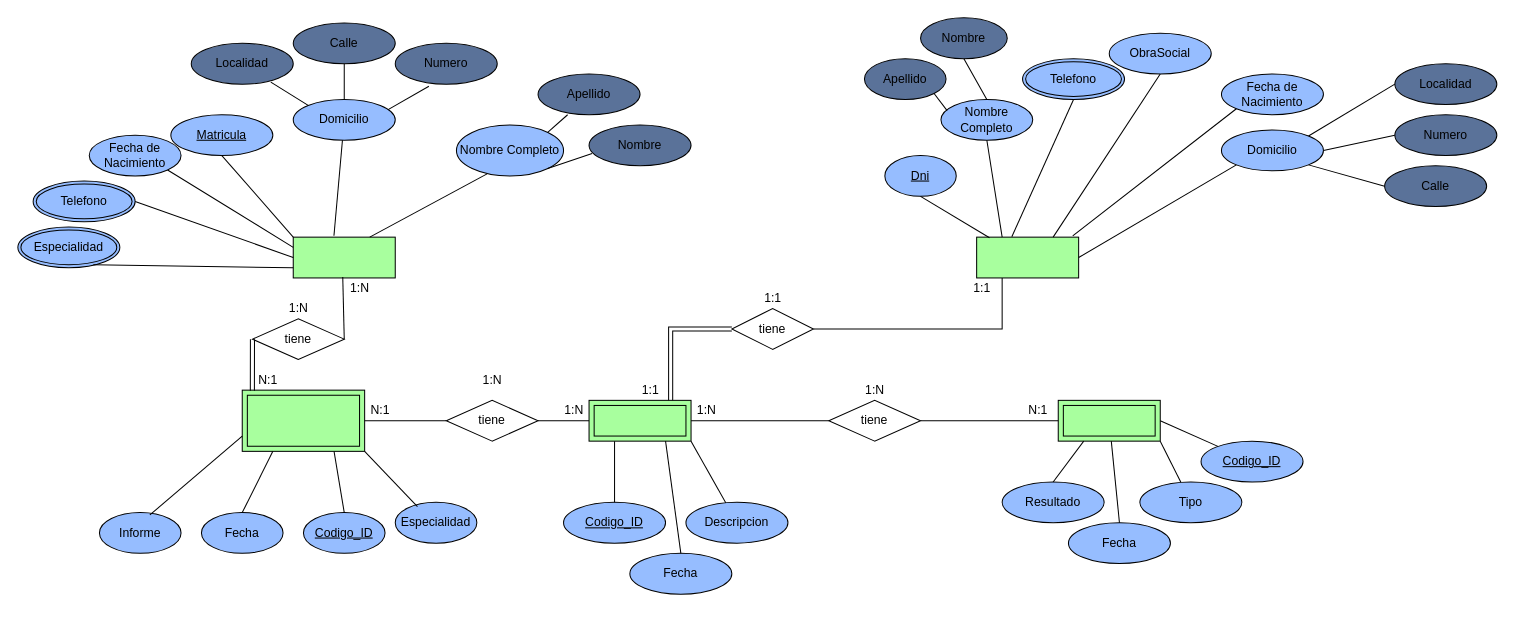
Image size: 1515x620. Some labels were removed from this diagram. Here are the shapes that lost their labels. From the top down, the centre of each, then its label:
At pixel 343 257: "Medico".
At pixel 1027 257: "Paciente".
At pixel 303 420: "Consulta".
At pixel 639 420: "Historia Clinica".
At pixel 1108 420: "Analisis".
